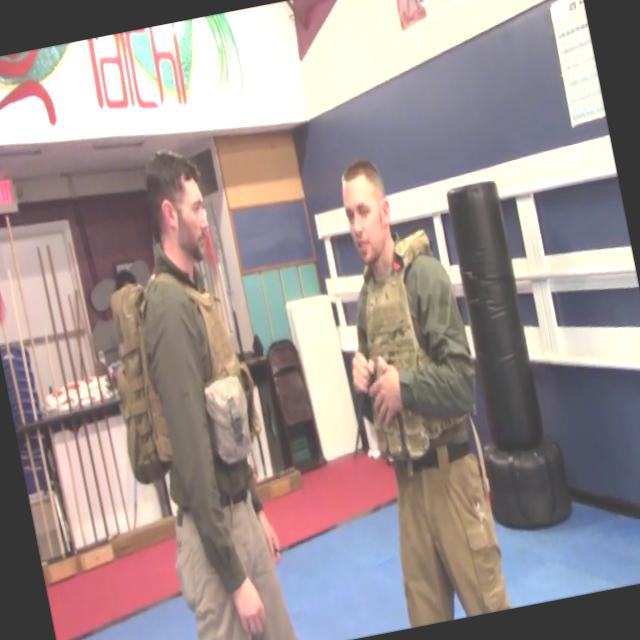knife: (321, 340, 396, 478)
